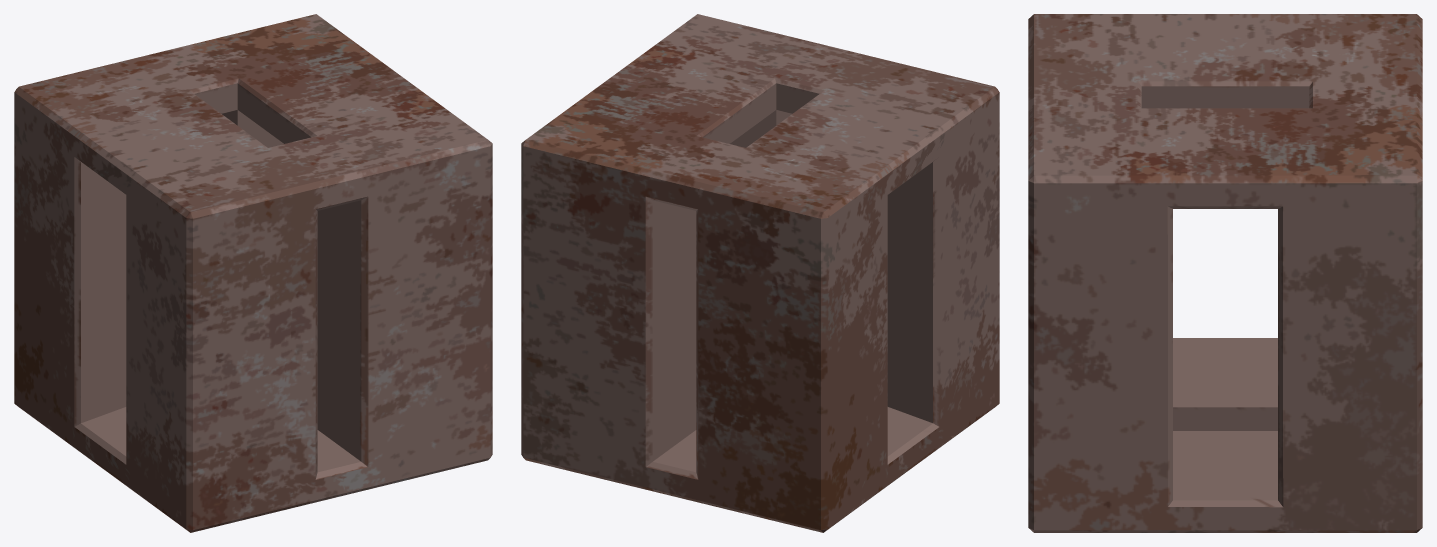
Rendered from rail_block_body.fbx.
3 renders of one model, left to right at view 1: azimuth 30°, elevation 25°; view 2: azimuth 150°, elevation 25°; view 3: azimuth 270°, elevation 25°, orthographic. The views are drawn at different scales.
Parts seen in each view (by area): view 1: rail_block; view 2: rail_block; view 3: rail_block.
Part boxes in pixels (bbox=[...]): rail_block: bbox=[14, 14, 492, 532]; rail_block: bbox=[521, 14, 999, 532]; rail_block: bbox=[1028, 14, 1422, 532].
Bounding box in the file's own units: 1 × 1 × 1.
